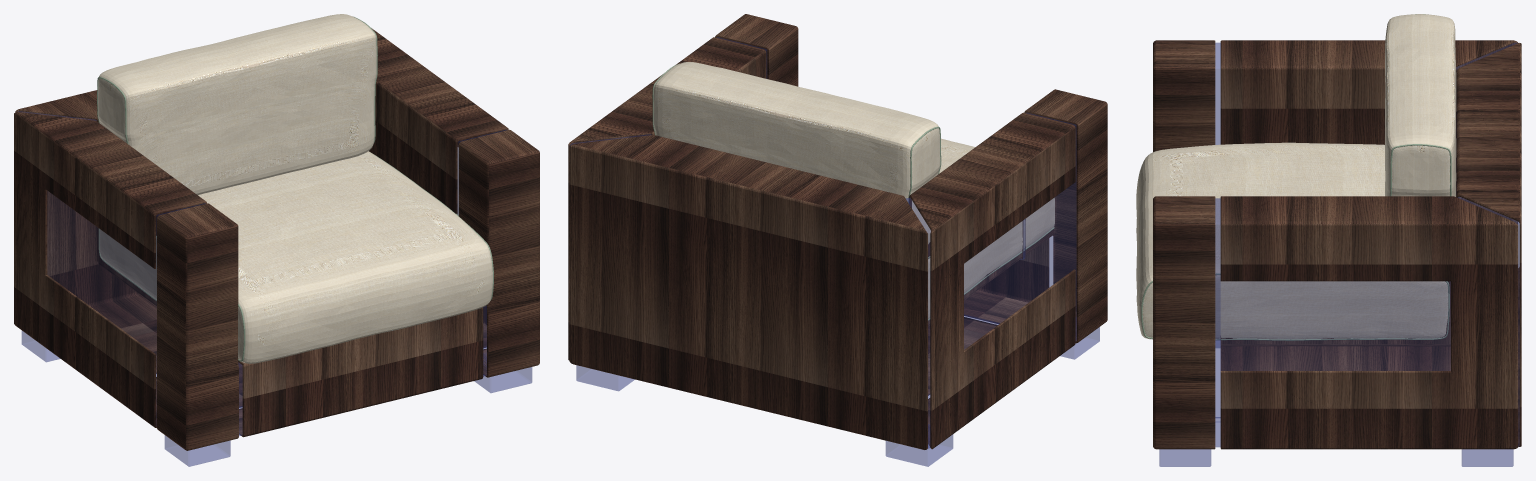
The model's file is Armchair.obj.
The picture shows the model from 3 angles, left to right: view 1: azimuth 30°, elevation 25°; view 2: azimuth 150°, elevation 25°; view 3: azimuth 270°, elevation 25°; orthographic projection. The views are drawn at different scales.
Parts seen in each view (by area): view 1: Armchair_01f1_sofa__w_textured, Armchair_01f1_sofa__Leather__grey, Armchair_01f1_sofa__w_transp, Armchair_01f1_sofa__Leather__br; view 2: Armchair_01f1_sofa__w_textured, Armchair_01f1_sofa__Leather__grey, Armchair_01f1_sofa__w_transp, Armchair_01f1_sofa__Leather__br; view 3: Armchair_01f1_sofa__w_textured, Armchair_01f1_sofa__Leather__grey, Armchair_01f1_sofa__w_transp, Armchair_01f1_sofa__Leather__br.
Part boxes in pixels (bbox=[...]): Armchair_01f1_sofa__w_textured: bbox=[14, 28, 539, 450]; Armchair_01f1_sofa__Leather__grey: bbox=[98, 14, 492, 363]; Armchair_01f1_sofa__w_transp: bbox=[18, 111, 532, 466]; Armchair_01f1_sofa__Leather__br: bbox=[97, 16, 493, 361]; Armchair_01f1_sofa__w_textured: bbox=[568, 14, 1107, 449]; Armchair_01f1_sofa__Leather__grey: bbox=[653, 62, 1054, 319]; Armchair_01f1_sofa__w_transp: bbox=[570, 37, 1099, 466]; Armchair_01f1_sofa__Leather__br: bbox=[652, 63, 1054, 320]; Armchair_01f1_sofa__w_textured: bbox=[1153, 40, 1521, 449]; Armchair_01f1_sofa__Leather__grey: bbox=[1136, 14, 1456, 339]; Armchair_01f1_sofa__w_transp: bbox=[1159, 42, 1519, 466]; Armchair_01f1_sofa__Leather__br: bbox=[1141, 14, 1451, 340].
Bounding box in the file's own units: 3.94 × 3.04 × 3.5.
